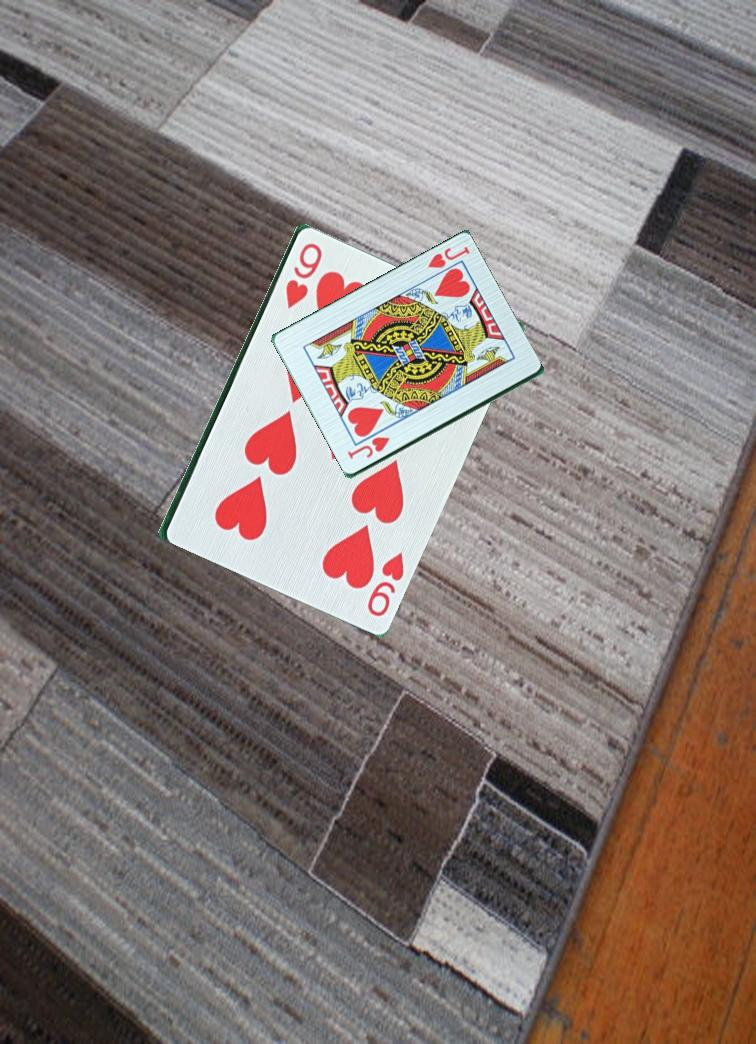9h: (363, 543, 407, 619), (281, 238, 325, 311)
jh: (344, 433, 393, 463), (424, 243, 472, 272)
